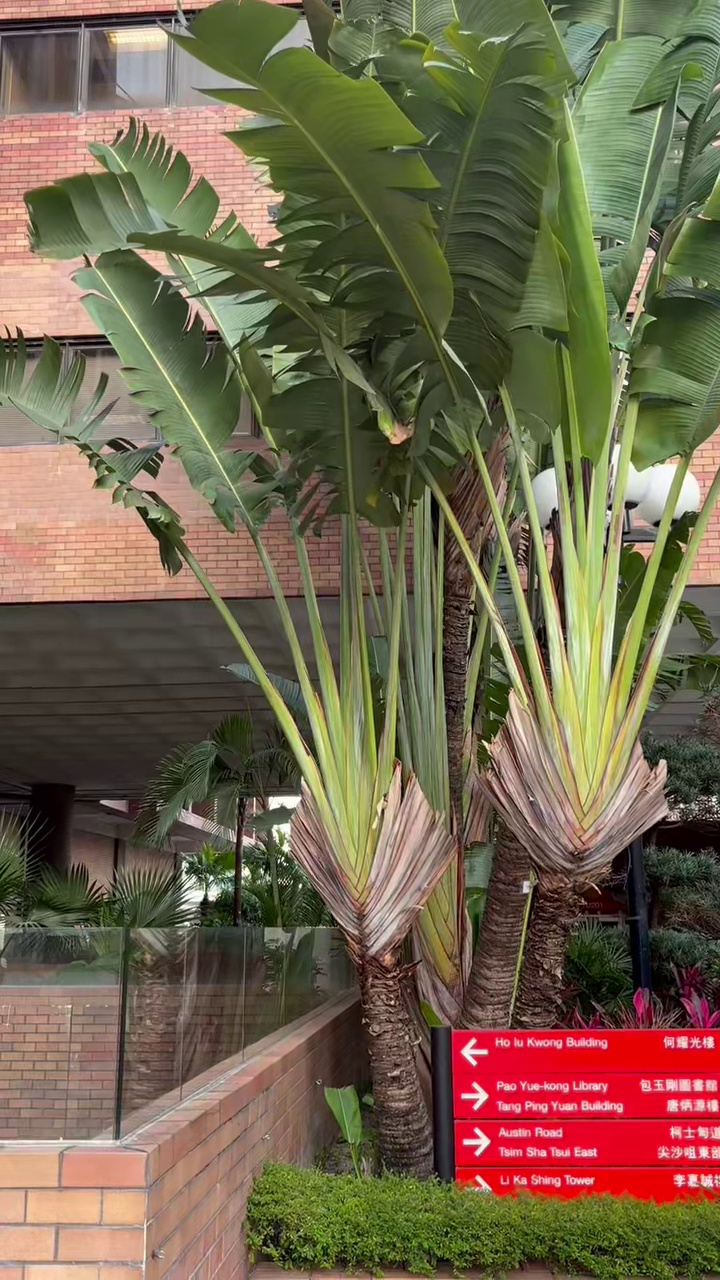Travellers-tree: (27, 0, 719, 1174)
